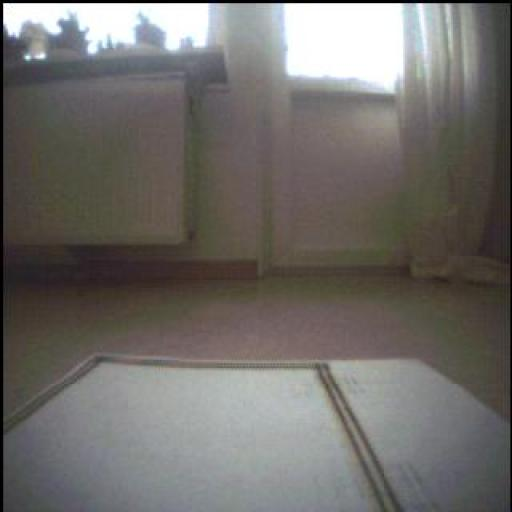Pad: (1, 353, 502, 512)
